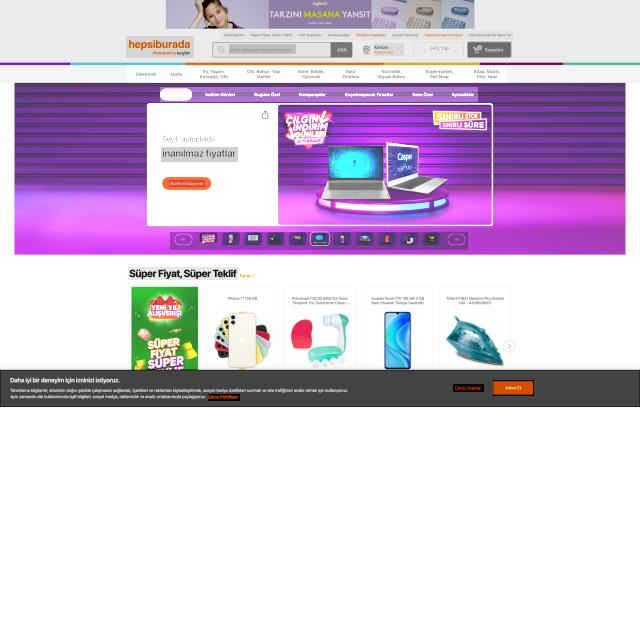CheckBox: (467, 41, 512, 58), (162, 176, 212, 191), (493, 380, 534, 396), (330, 42, 352, 58), (453, 384, 484, 392), (208, 394, 240, 401), (238, 272, 256, 279)
CheckedTextView: (212, 42, 353, 58)
ImageView: (166, 0, 475, 29), (132, 287, 198, 369)
Switch: (170, 232, 468, 250)
alert: (414, 42, 464, 58), (374, 43, 404, 56)
bag: (0, 0, 640, 65)
breadcrumbs: (128, 267, 238, 280)
card: (15, 83, 625, 255)
carousel: (260, 110, 269, 120), (363, 45, 371, 55), (217, 46, 225, 54)
data feed: (169, 180, 205, 187), (335, 46, 348, 54)
date picker: (126, 36, 194, 58)
decoration: (127, 66, 507, 83), (160, 87, 478, 102), (220, 30, 514, 40)
footer: (229, 44, 296, 54)
header: (0, 369, 640, 408)
image: (161, 147, 238, 162)
